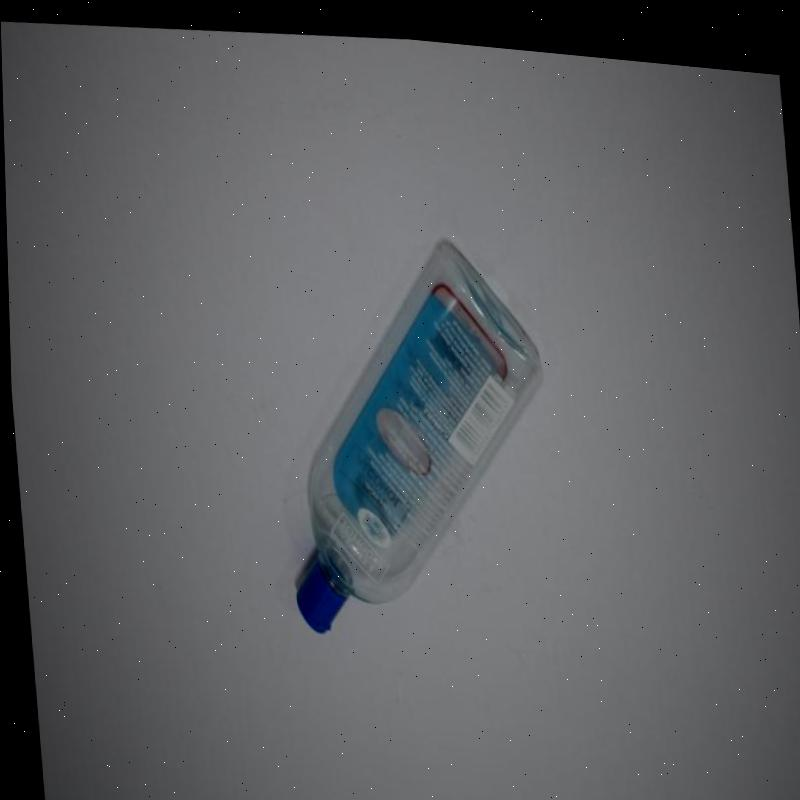botella: (260, 202, 566, 659)
